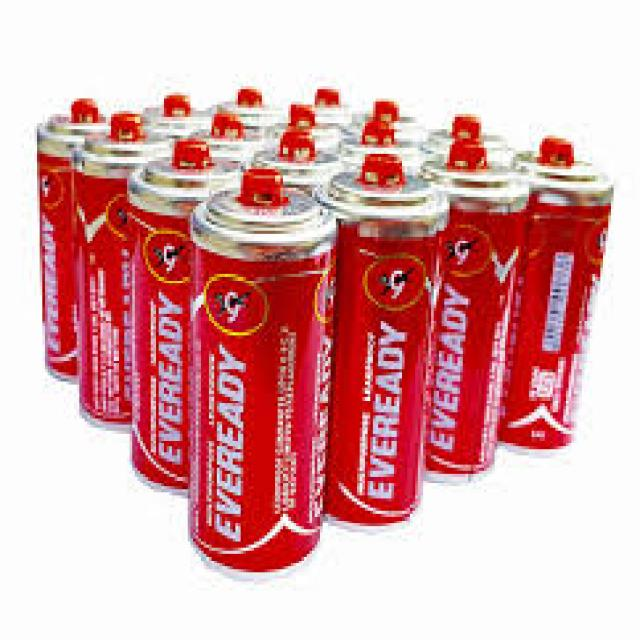hazard: (54, 85, 580, 548)
